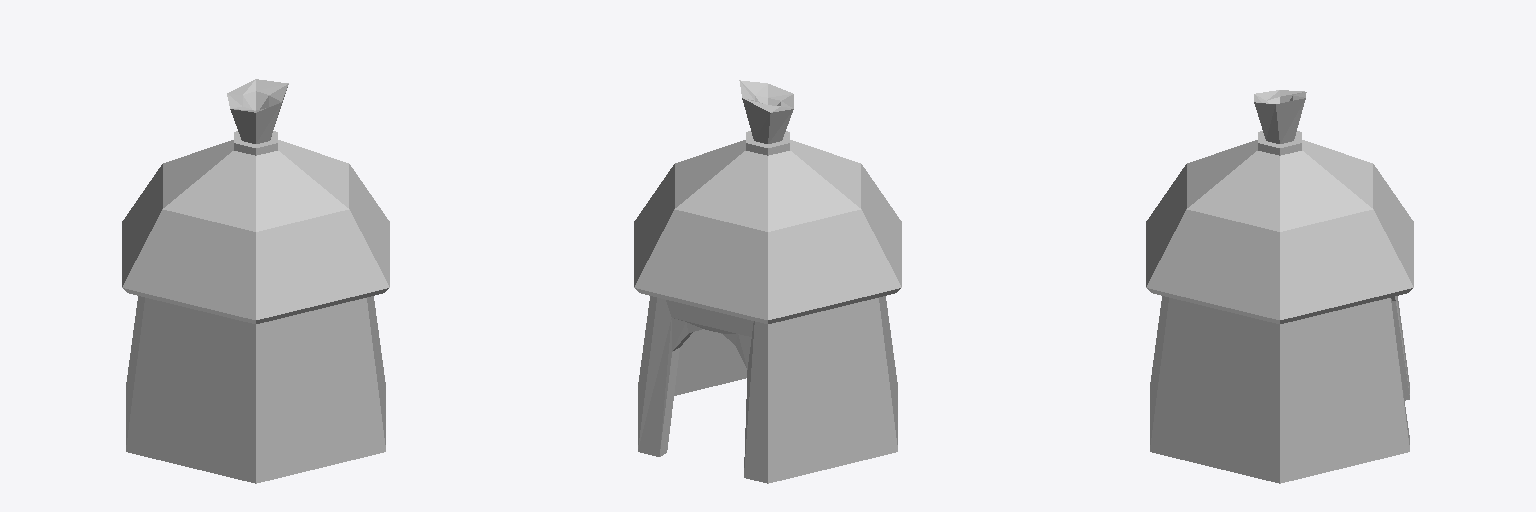
Rendered from house.obj.
3 views of the same model, side by side, from view 1: azimuth 30°, elevation 25°; view 2: azimuth 150°, elevation 25°; view 3: azimuth 270°, elevation 25° (orthographic).
Parts seen in each view (by area): view 1: SM_Hut:SM_Hut; view 2: SM_Hut:SM_Hut; view 3: SM_Hut:SM_Hut.
Boxes of the visible parts, box(x1,y1,x2,y2) form: SM_Hut:SM_Hut: box(122, 79, 389, 483); SM_Hut:SM_Hut: box(634, 80, 901, 483); SM_Hut:SM_Hut: box(1146, 90, 1413, 483).
Size of the model in its own units: 7.28 by 8.63 by 6.3.